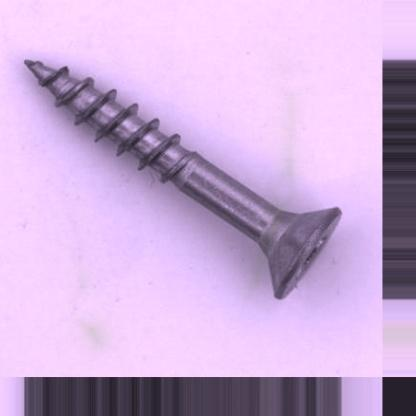metal: (23, 57, 342, 299)
